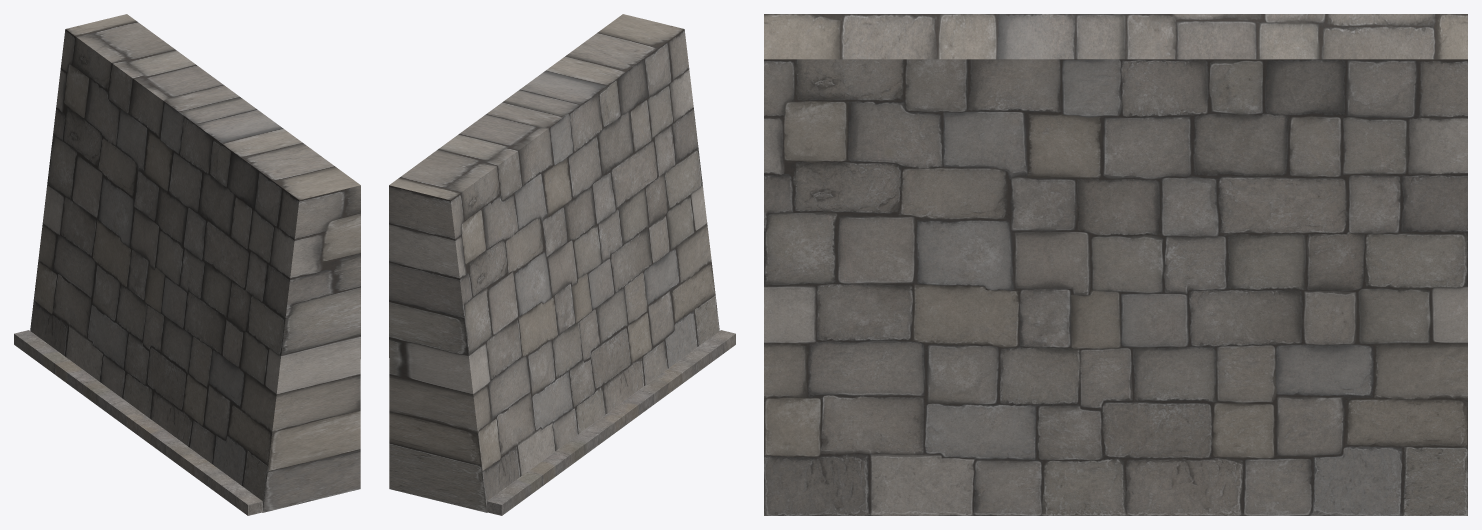
3 views of the same model, side by side, from view 1: azimuth 30°, elevation 25°; view 2: azimuth 150°, elevation 25°; view 3: azimuth 270°, elevation 25° (orthographic). The views are drawn at different scales.
Visible parts, largest first — view 1: SM_CW; view 2: SM_CW; view 3: SM_CW.
Boxes of the visible parts, x1,y1,x2,y2 form: SM_CW: [14, 14, 360, 515]; SM_CW: [389, 14, 735, 515]; SM_CW: [764, 14, 1467, 515].
Bounding box in the file's own units: 218 × 782 × 560.
Materials: 2 (2 with a texture image).
